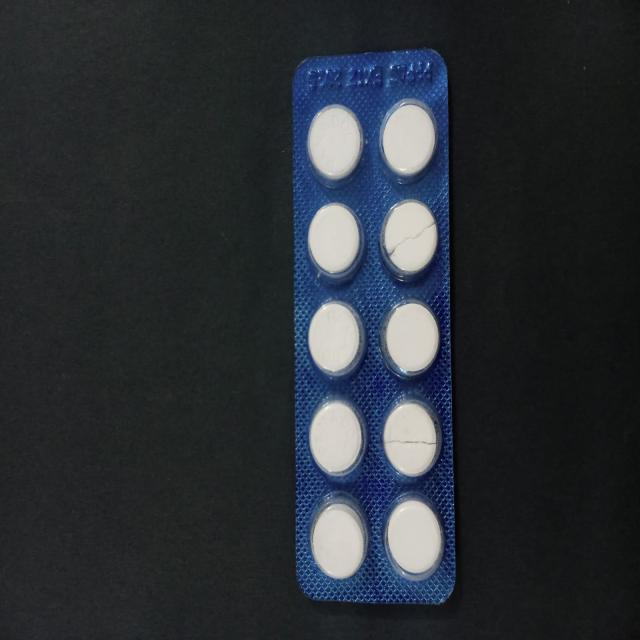defect: (379, 393, 446, 485), (377, 196, 442, 287)
